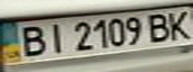0: (106, 16, 127, 48)
1: (90, 16, 112, 50)
2: (69, 18, 93, 53)
9: (124, 13, 148, 46)
B: (15, 23, 51, 57), (145, 11, 175, 43)
I: (42, 20, 69, 54)
K: (163, 7, 193, 42)
